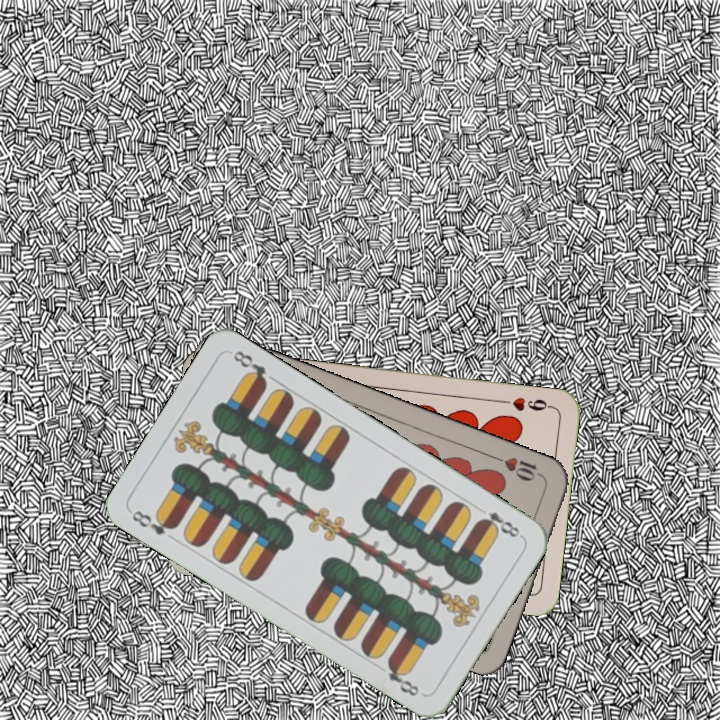E8: (127, 506, 180, 539), (474, 507, 525, 540)
H10: (491, 452, 547, 484)
H9: (495, 393, 555, 414)
